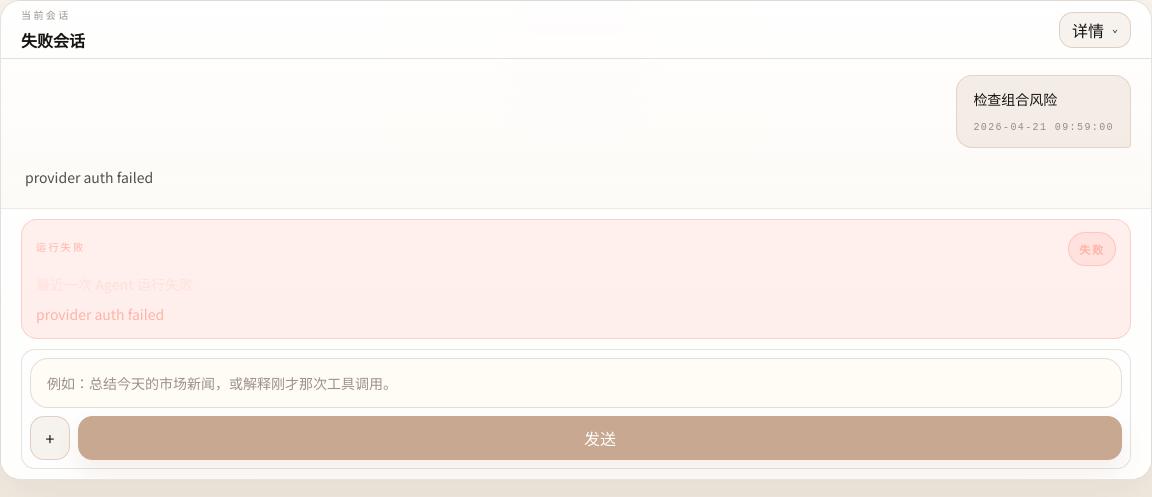
it: PiConversationPane › surfaces failed state and the latest run error above the transcript
The width and height of the screenshot is (1152, 497).
expect the element with test id "pi-agent-run-failure-banner" shows "provider auth failed": met, box [36,304,164,324]
expect the text "失败" is shown: met, box [1068,232,1116,266]
What coordinates should you click on to do the following:
click the button with test id "pi-agent-session-info-toggle"
I would click on:
 (1095, 30)
Its box is [1059,12,1131,48].
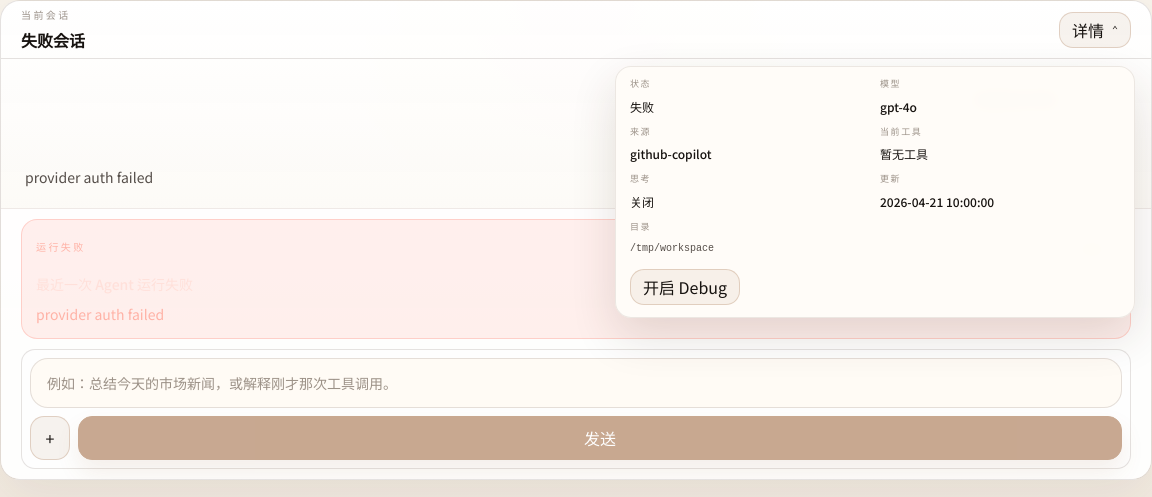
expect the element with test id "pi-agent-session-info-panel" shows "gpt-4o": met, box [880,98,917,114]
expect the element with test id "pi-agent-session-info-panel" shows "github-copilot": met, box [630,145,712,162]
